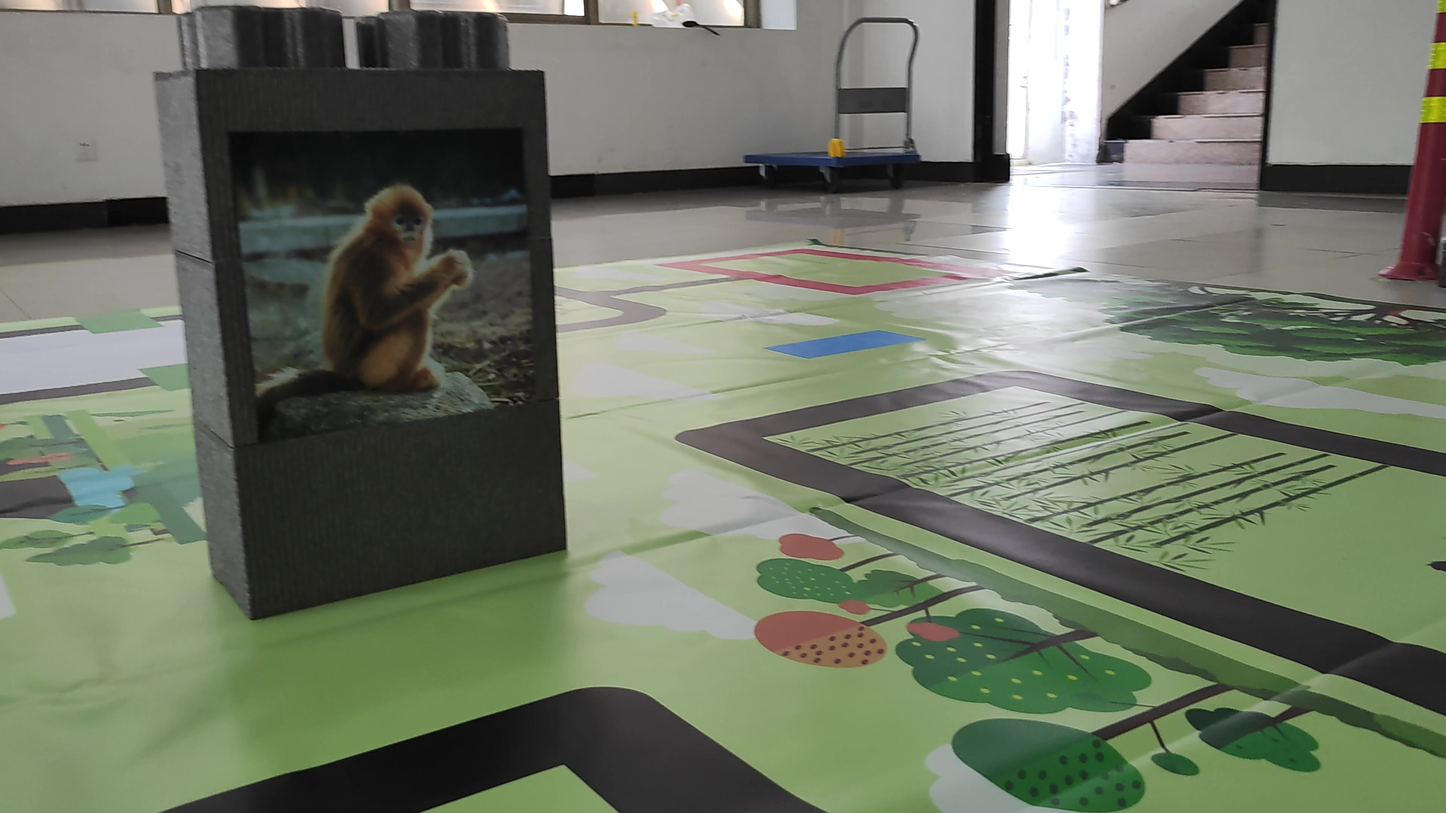monkey: (261, 164, 485, 421)
